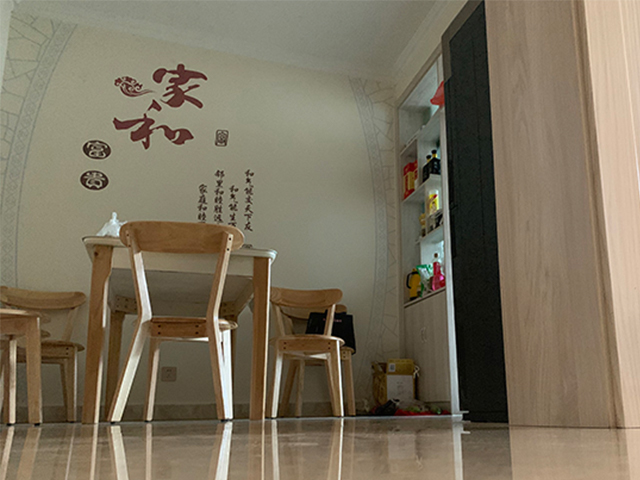cabinet: (393, 285, 454, 413)
stool: (107, 220, 245, 426), (1, 285, 87, 424), (263, 286, 348, 419)
table: (81, 235, 278, 426)
